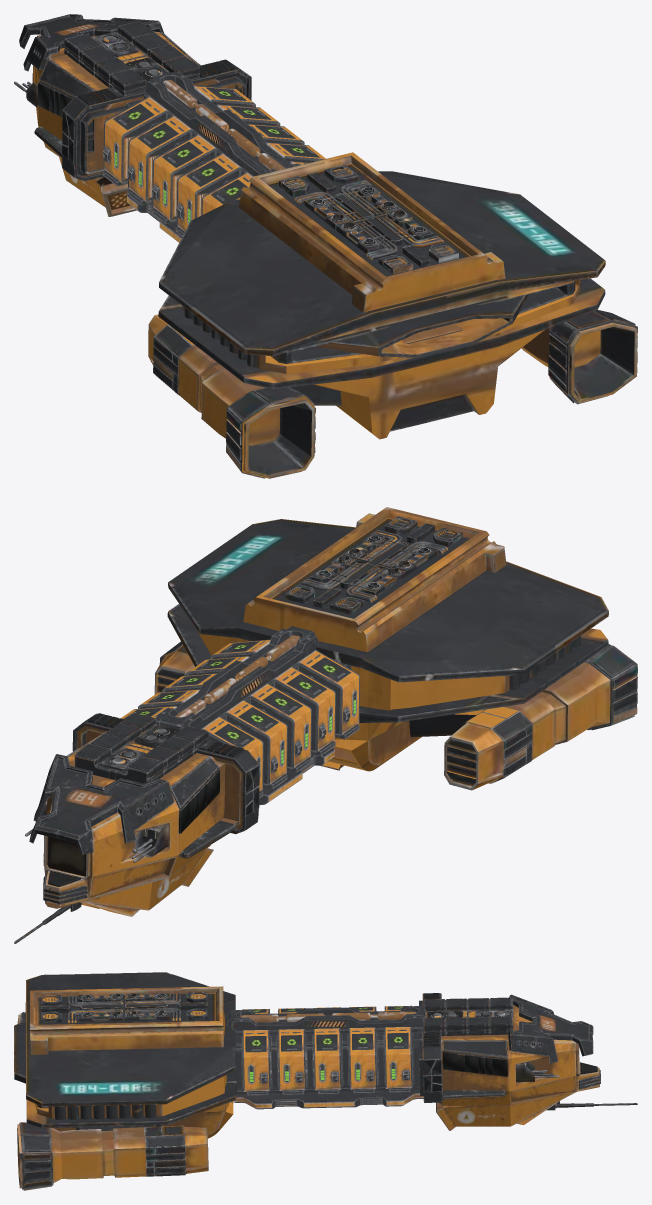
Rendered from cargo.glb.
3 renders of one model, top to bottom at view 1: azimuth 30°, elevation 25°; view 2: azimuth 150°, elevation 25°; view 3: azimuth 270°, elevation 25°, orthographic. The views are drawn at different scales.
Parts seen in each view (by area): view 1: defaultMaterial (×3); view 2: defaultMaterial (×3); view 3: defaultMaterial (×3).
Part boxes in pixels (x1,y1,x2,y2): defaultMaterial (×3): (14, 14, 637, 478); defaultMaterial (×3): (14, 507, 637, 943); defaultMaterial (×3): (14, 972, 637, 1190).
Bounding box in the file's own units: 8822 × 3787 × 16478.
3 materials, 3 textured.
